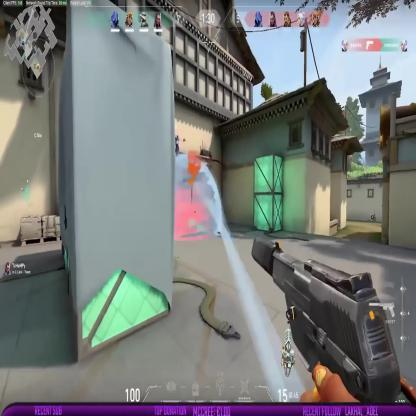enemy: (172, 130, 180, 160)
enemy_head: (174, 132, 177, 138)
